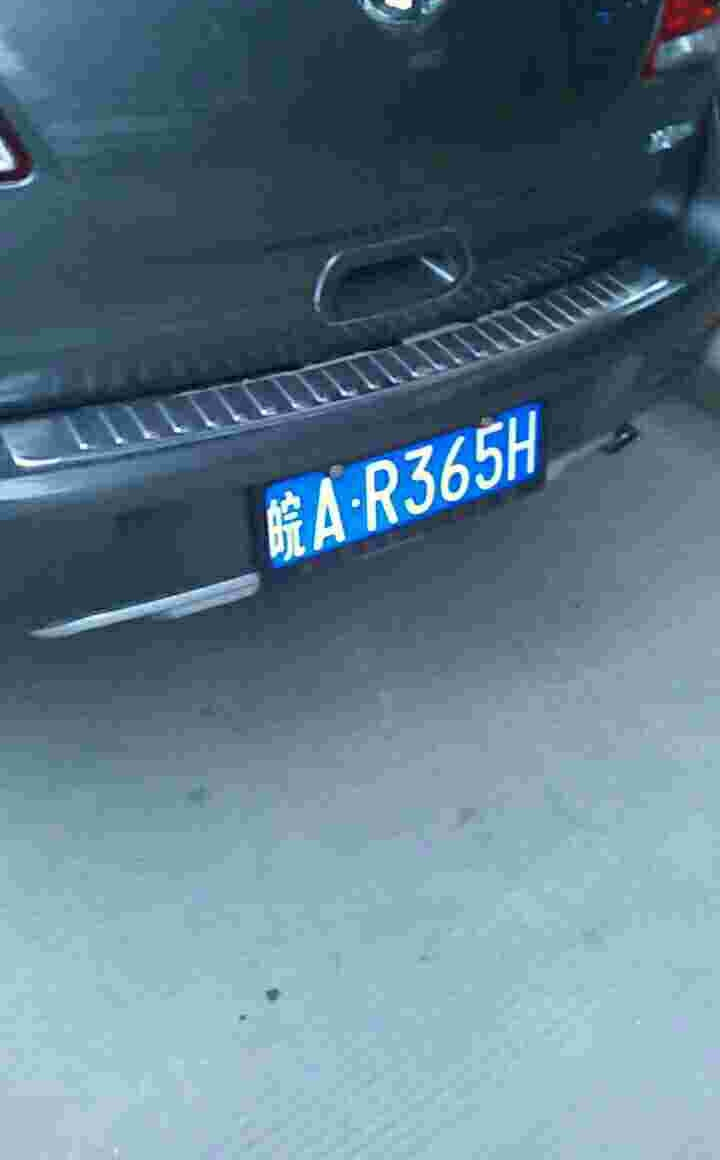license_plate: (271, 397, 544, 568)
